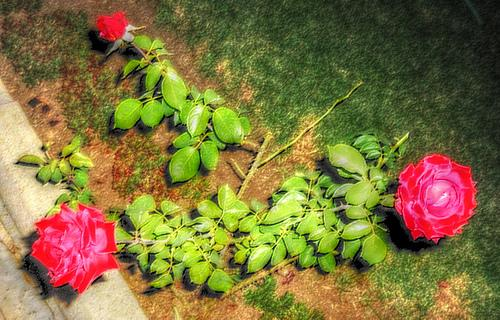Rose: (20, 197, 124, 303), (386, 145, 484, 254), (80, 2, 133, 47)
